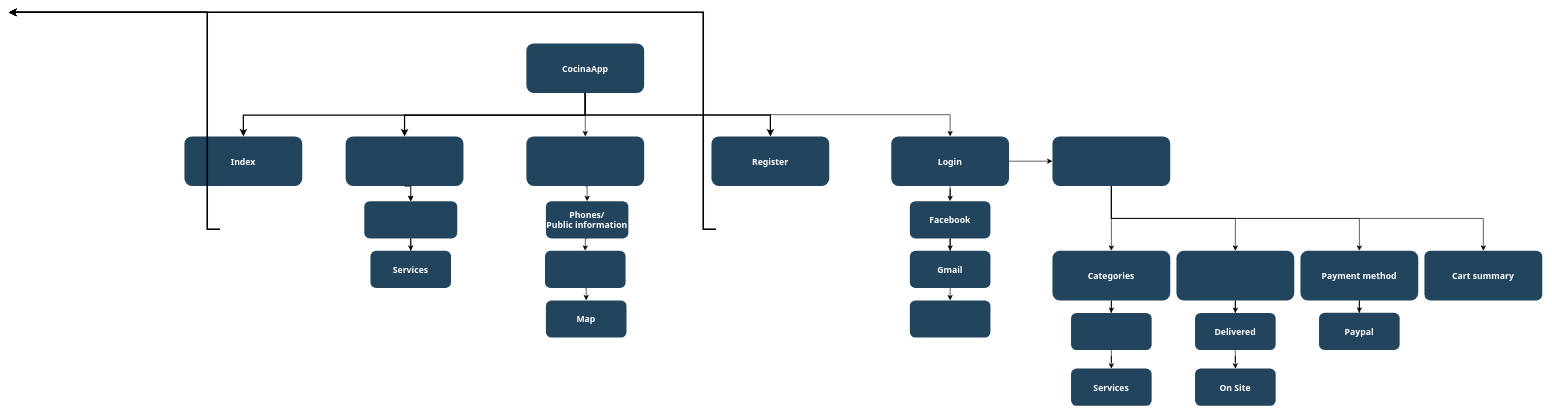
The diagram is 1552 pixels wide and 416 high, and some of its shapes have lost their labels. Here are the shapes that lost their labels. From the top down, the centre of each, then its label:
At point (404, 161): "About".
At point (585, 161): "Contact Us".
At point (1111, 161): "Order".
At point (410, 219): "Brief history on how it started".
At point (585, 269): "Social Media".
At point (1235, 275): "Shipping methods".
At point (950, 318): "Local account".
At point (1111, 331): "Products".
